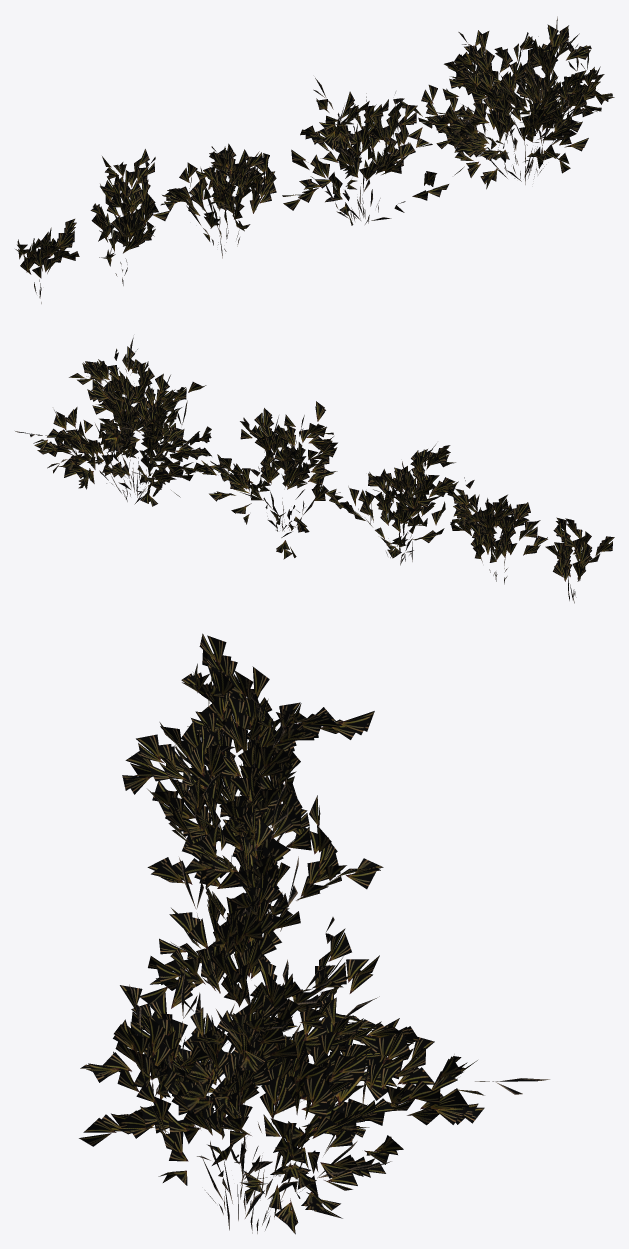
File: bush_rooibos.glb
The picture shows the model from 3 angles, top to bottom: view 1: azimuth 30°, elevation 25°; view 2: azimuth 150°, elevation 25°; view 3: azimuth 270°, elevation 25°; orthographic projection. The views are drawn at different scales.
Parts seen in each view (by area): view 1: bush_rooibos; view 2: bush_rooibos; view 3: bush_rooibos.
Boxes of the visible parts, x1,y1,x2,y2 form: bush_rooibos: [15, 16, 614, 303]; bush_rooibos: [15, 337, 614, 603]; bush_rooibos: [79, 633, 549, 1234].
Bounding box in the file's own units: 3.56 × 0.85 × 1.32.
3 materials, 3 textured.
